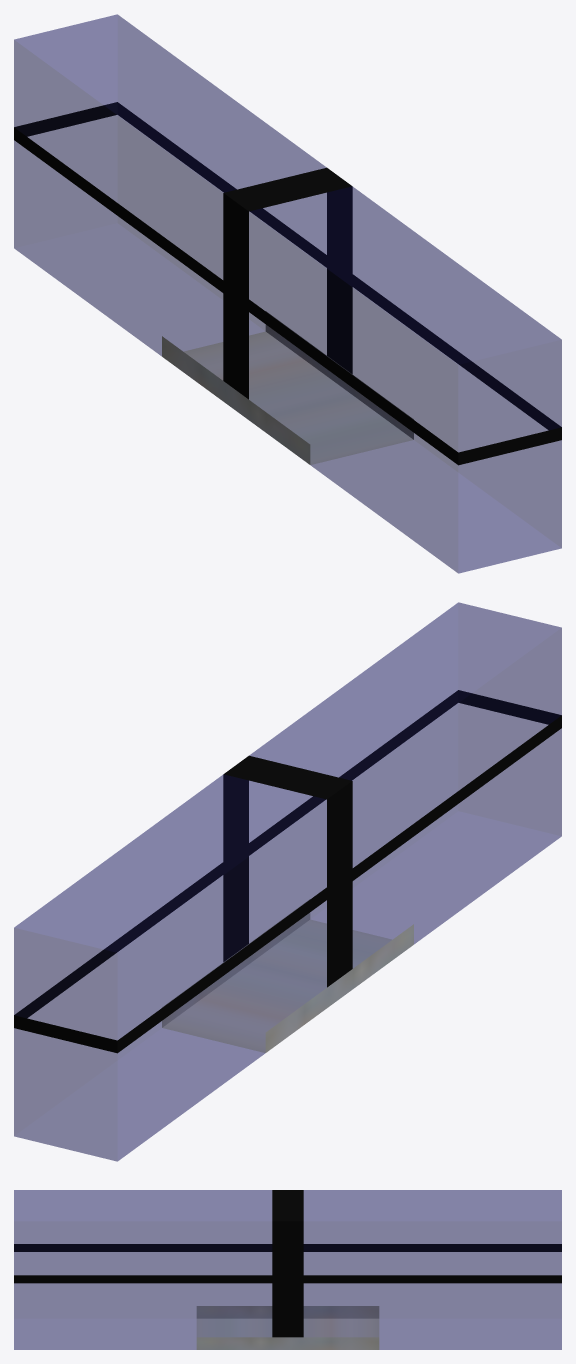
File: firor.fbx
3 renders of one model, top to bottom at view 1: azimuth 30°, elevation 25°; view 2: azimuth 150°, elevation 25°; view 3: azimuth 270°, elevation 25°, orthographic. The views are drawn at different scales.
Parts seen in each view (by area): view 1: Object_13.006; view 2: Object_13.006; view 3: Object_13.006.
Part boxes in pixels (x1,y1,x2,y2): Object_13.006: (14,14,561,573); Object_13.006: (14,602,561,1161); Object_13.006: (14,1190,561,1349).
Bounding box in the file's own units: 116 × 223 × 860.
